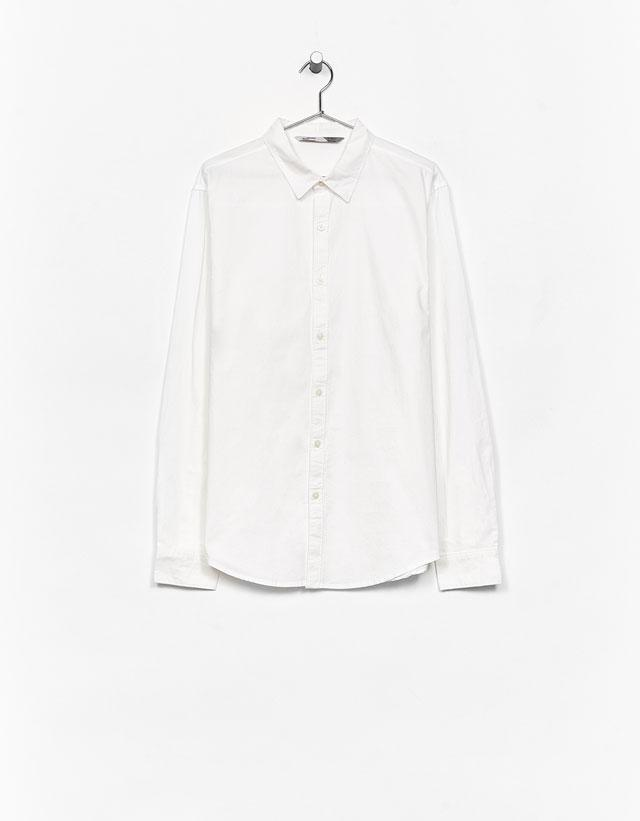teeshirt: (147, 116, 515, 619)
